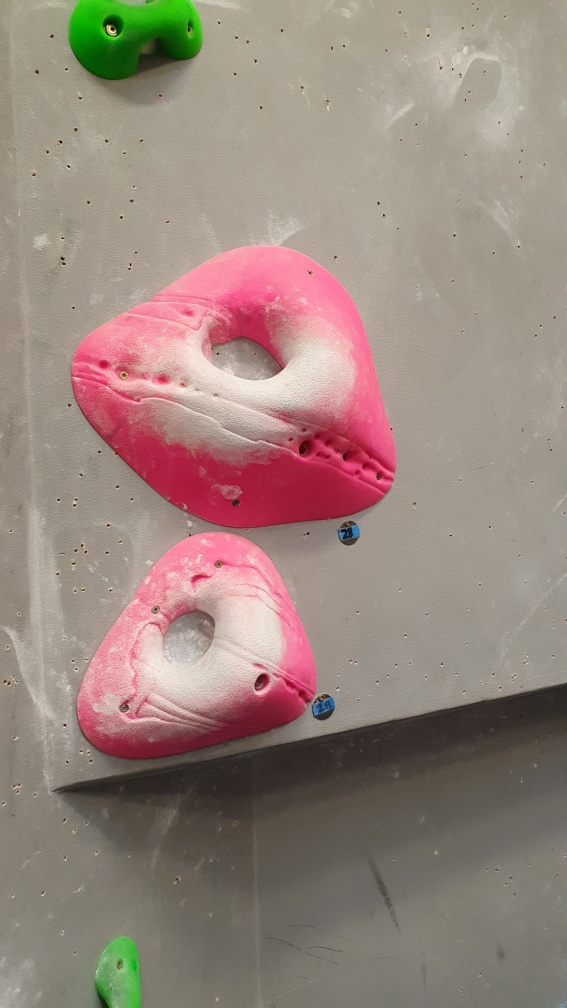Hand Start: (334, 516, 363, 549), (309, 691, 338, 724)
Pocket: (70, 239, 402, 532), (72, 534, 326, 765)
